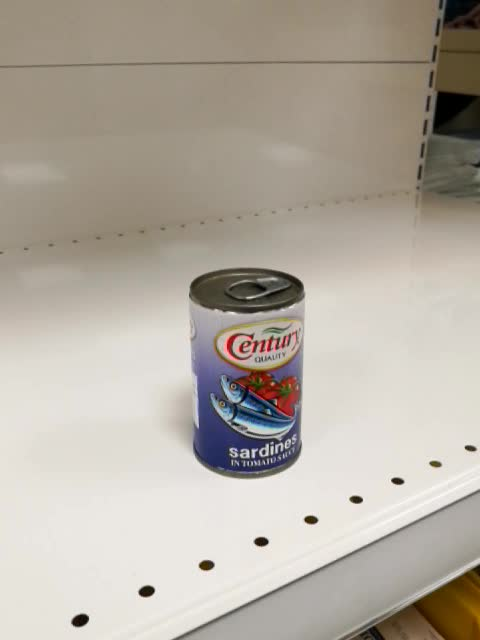sardine: (187, 265, 306, 479)
